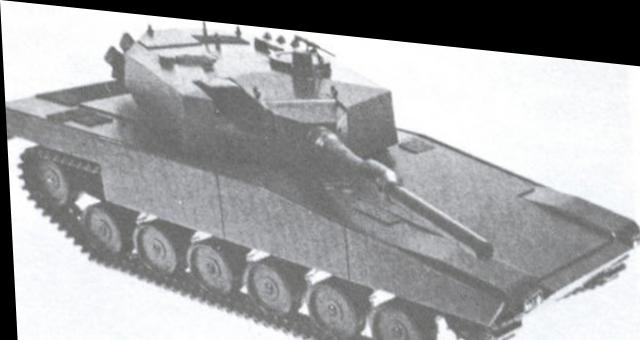other: (6, 2, 630, 338)
